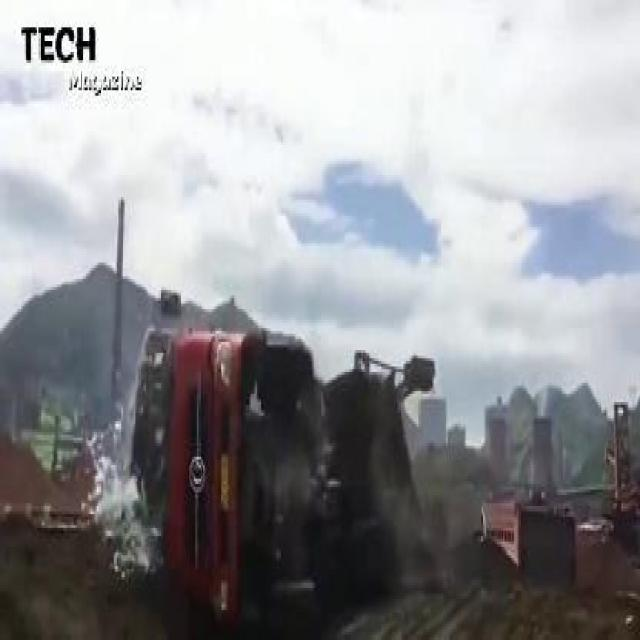accident: (128, 309, 432, 637)
